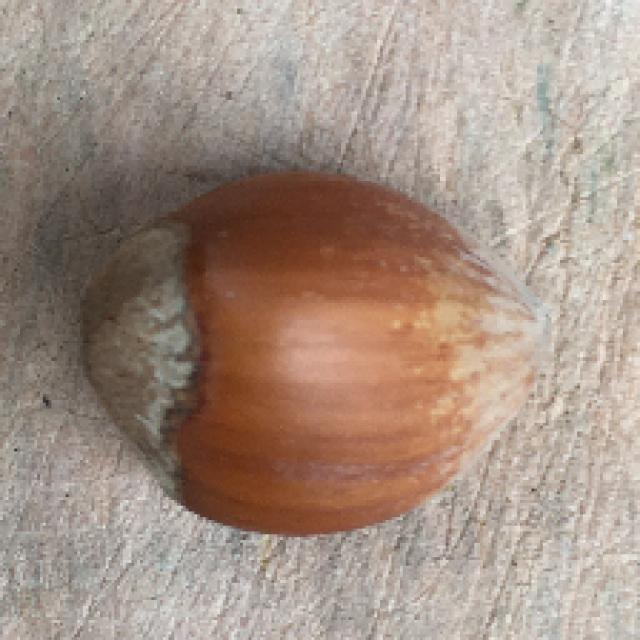qualityHazelnut: (75, 168, 548, 537)
